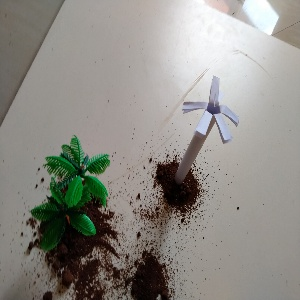plant: (38, 135, 113, 260)
weed: (177, 85, 231, 185)
